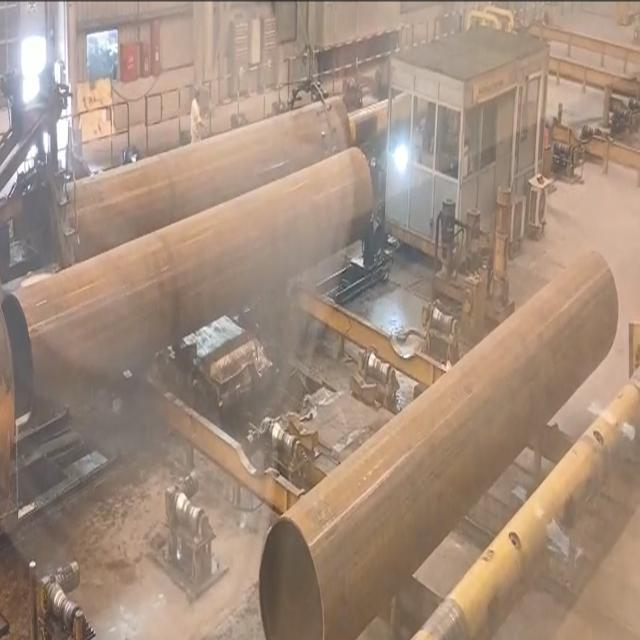warningzone: (135, 268, 453, 496)
